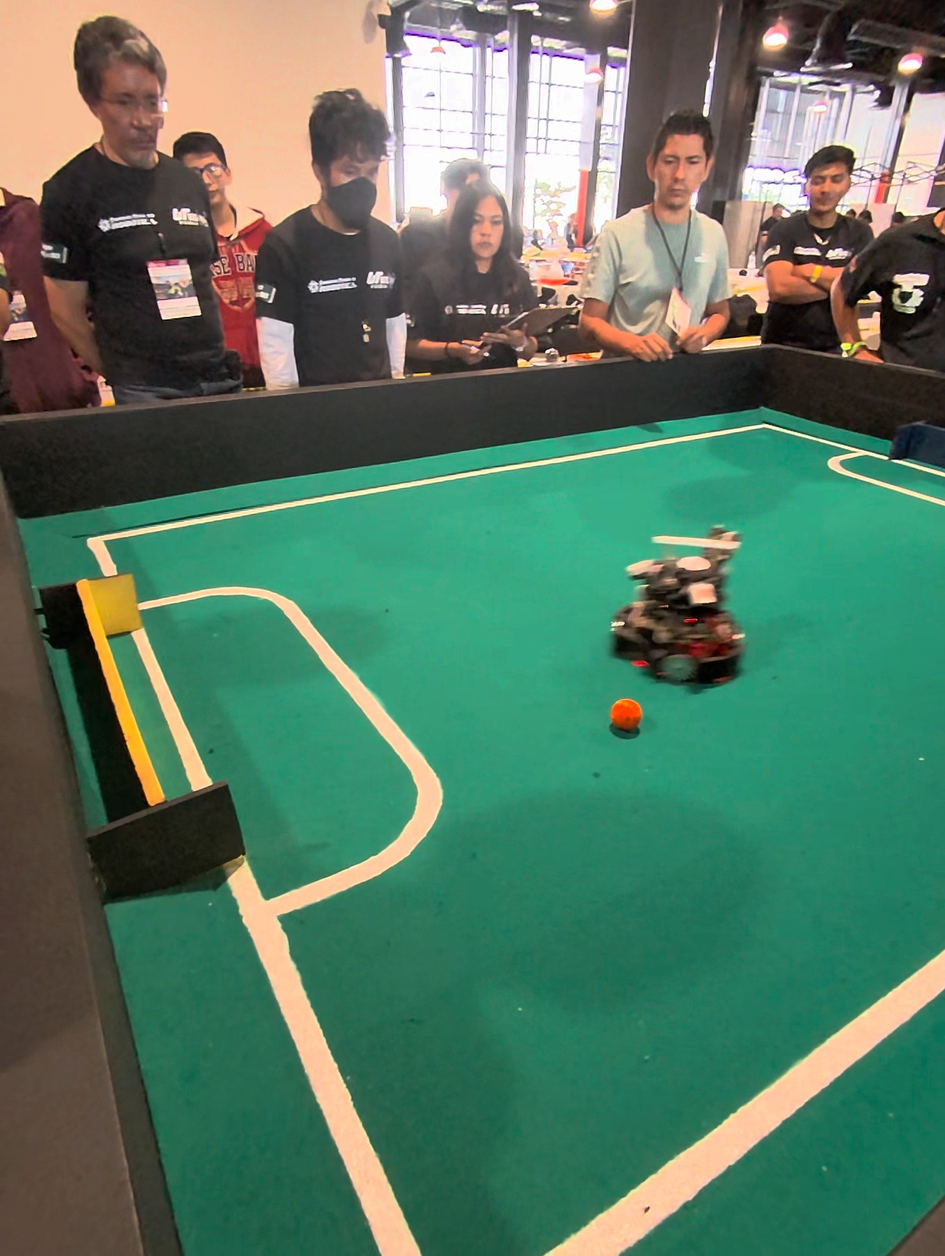Robot: (610, 509, 754, 696)
pelota: (610, 699, 645, 732)
